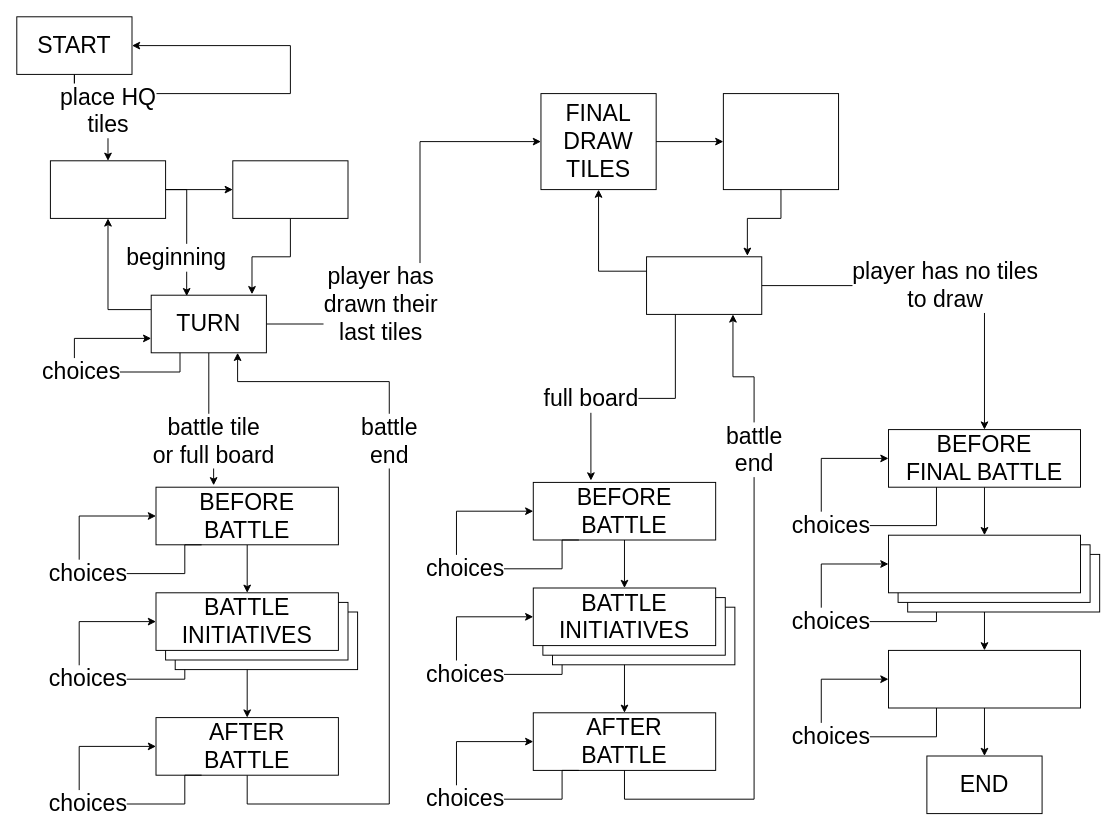
The diagram is 1116 pixels wide and 834 high, and some of its shapes have lost their labels. Here are the shapes that lost their labels. From the top down, the centre of each, then its label:
At pixel 780 141: "FINAL DISCARD TILE".
At pixel 107 189: "DRAW TILES".
At pixel 290 189: "DISCARD TILE".
At pixel 704 285: "FINAL TURN".
At pixel 984 563: "FINAL BATTLE INITIATIVES".
At pixel 984 678: "AFTER FINAL BATTLE".
